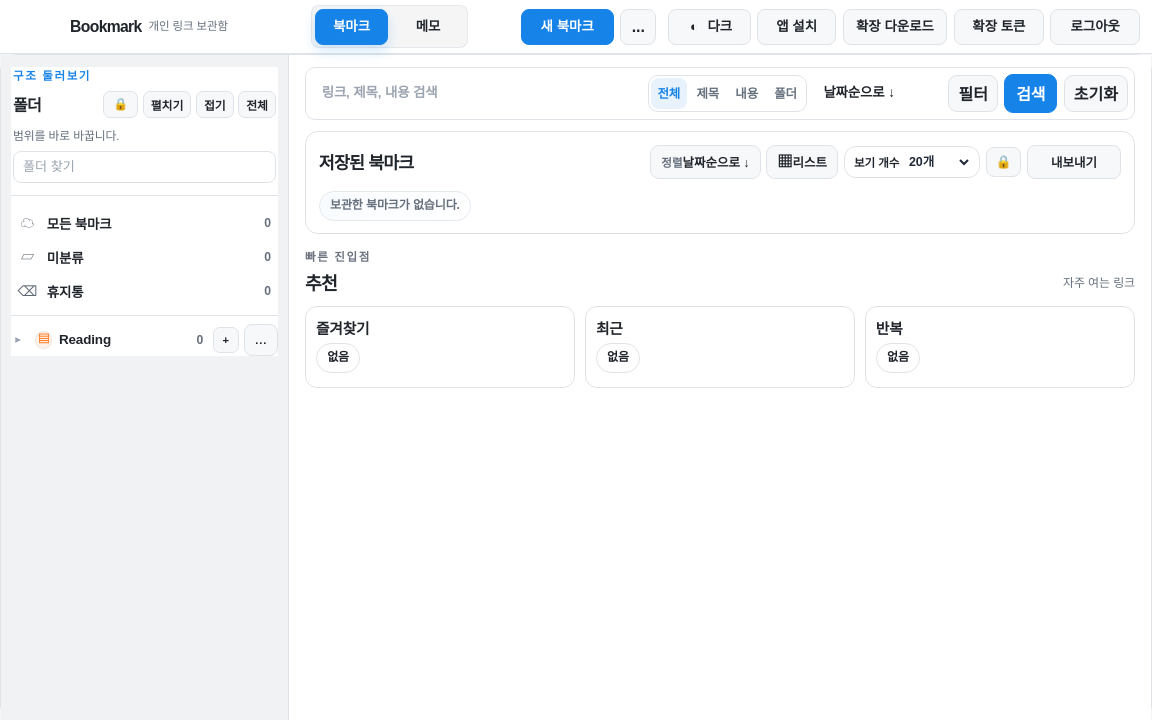
bookmark dashboard › prefills the selected folder when starting a bookmark from the current folder scope
Click the button with aria-label "Reading 폴더 보기". click: point(119, 340)
box: [27, 324, 211, 356]
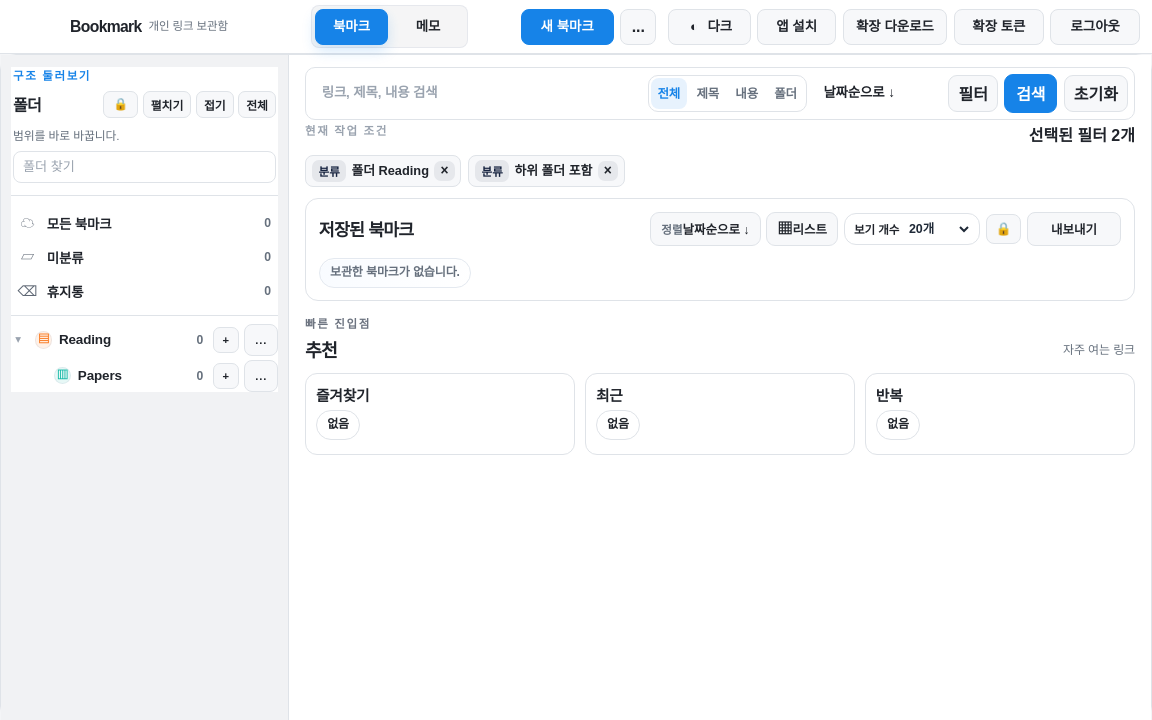
Click the button "새 북마크". click: point(567, 26)
box: [521, 8, 614, 44]
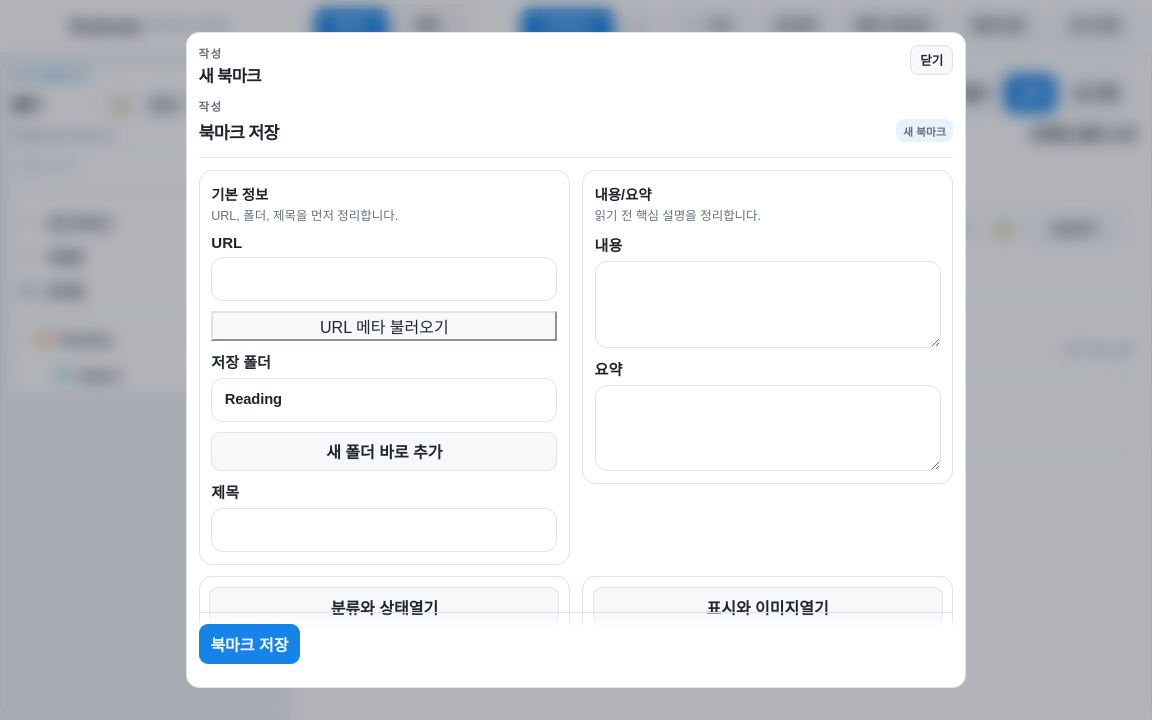
Expected: the dropdown labelled "저장 폴더" shows "Reading", [211, 378, 557, 422]
